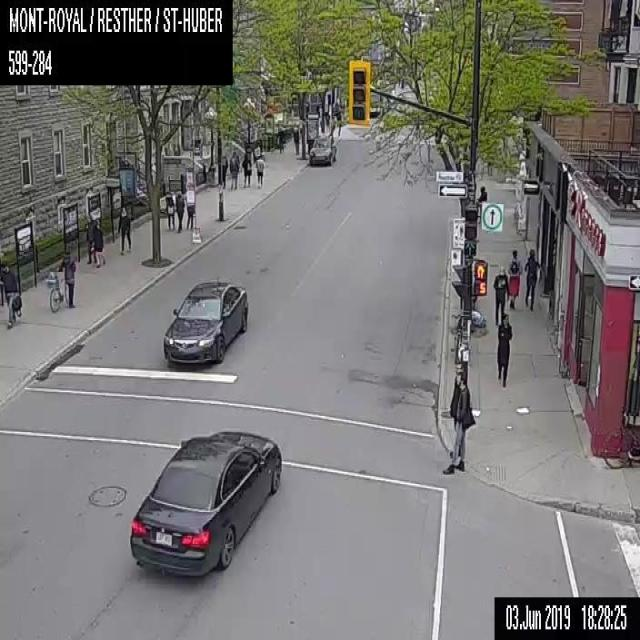bus: (369, 79, 394, 115)
pedestrian: (441, 369, 475, 475), (49, 250, 75, 312), (2, 264, 21, 328), (496, 312, 512, 386), (523, 248, 540, 310), (493, 266, 509, 325), (508, 249, 522, 308), (92, 217, 105, 267), (117, 206, 130, 253), (83, 214, 93, 264), (228, 149, 239, 189), (174, 189, 184, 232), (476, 185, 487, 224), (164, 190, 174, 229), (241, 152, 251, 186), (254, 154, 264, 186), (184, 202, 194, 230), (276, 125, 284, 154), (222, 153, 228, 188), (292, 125, 298, 154), (324, 112, 330, 132)
vehicle: (129, 430, 281, 576), (162, 281, 248, 364), (308, 135, 336, 165)
